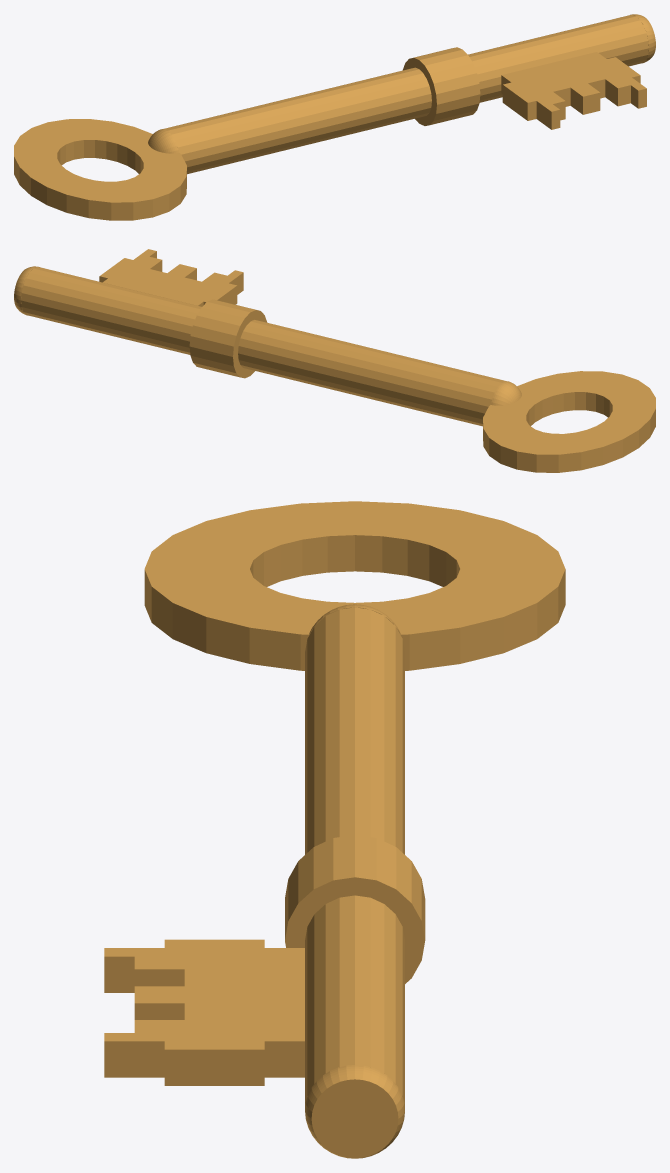
File: key.glb
3 renders of one model, top to bottom at view 1: azimuth 30°, elevation 25°; view 2: azimuth 150°, elevation 25°; view 3: azimuth 270°, elevation 25°, orthographic. The views are drawn at different scales.
Parts seen in each view (by area): view 1: Mesh_Mesh_head_geo.001_lambert2SG.001; view 2: Mesh_Mesh_head_geo.001_lambert2SG.001; view 3: Mesh_Mesh_head_geo.001_lambert2SG.001.
Part boxes in pixels (x1,y1,x2,y2): Mesh_Mesh_head_geo.001_lambert2SG.001: (14,14,655,220); Mesh_Mesh_head_geo.001_lambert2SG.001: (14,249,655,472); Mesh_Mesh_head_geo.001_lambert2SG.001: (104,501,565,1158).
Size of the model in its own units: 70.75 by 7 by 23.
